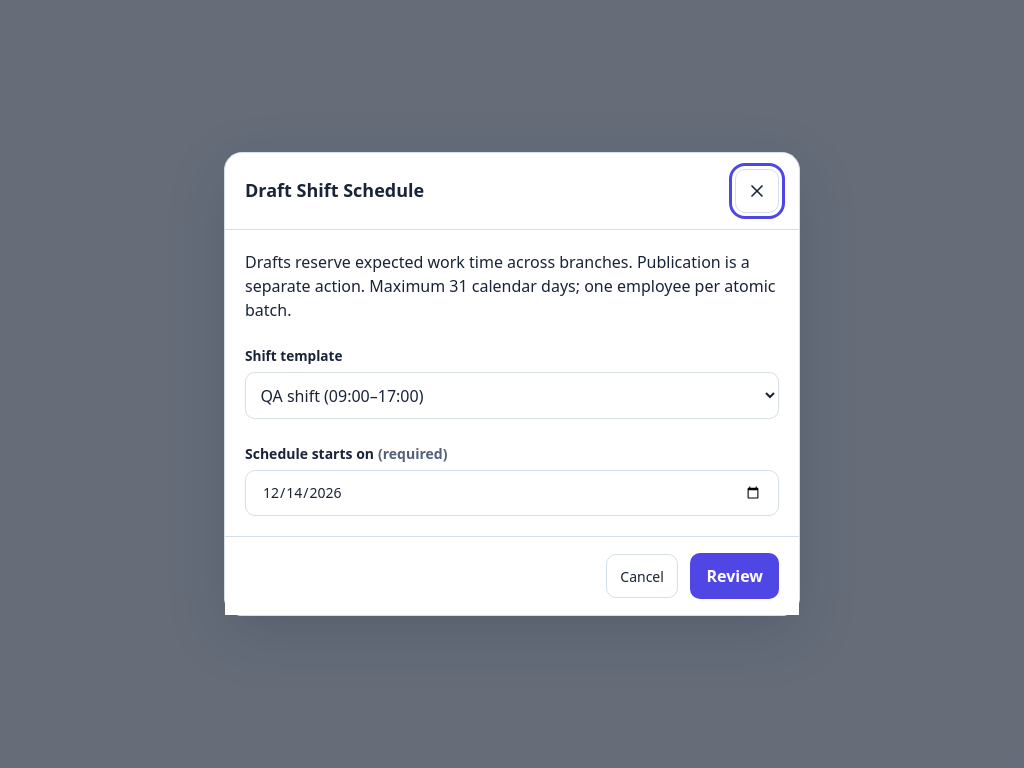
Test: draft shift edits use the reviewed version and block replay after an uncertain response
Click the button "Review". click: click(735, 576)
box: top-left (690, 553), bottom-right (779, 600)
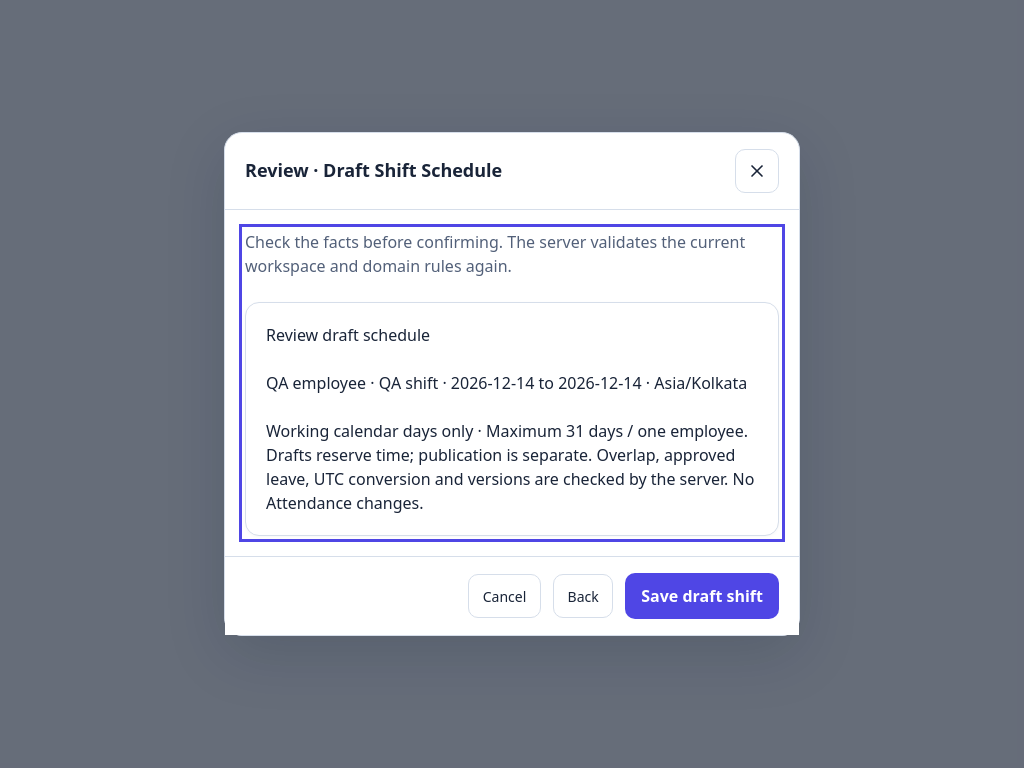
Click the button "Save draft shift". click: click(702, 596)
box: top-left (625, 573), bottom-right (779, 619)
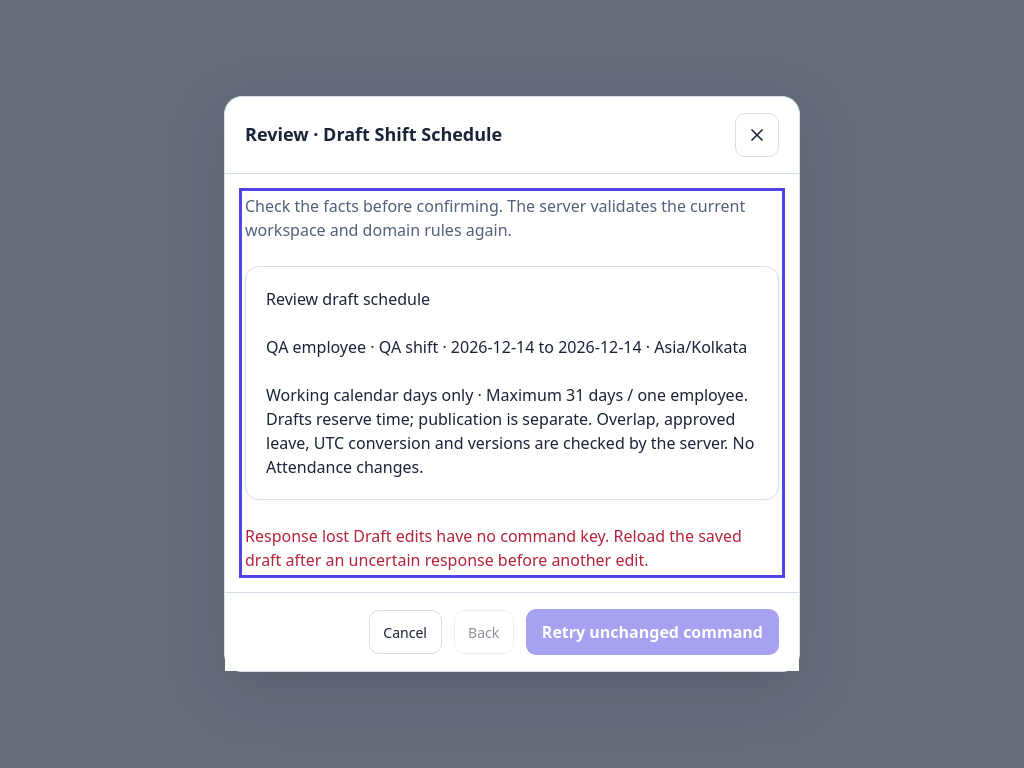
Expected: the message is shown, top-left (245, 524), bottom-right (779, 572)
Expected: the button "Retry unchanged command" is disabled, top-left (526, 609), bottom-right (779, 655)
